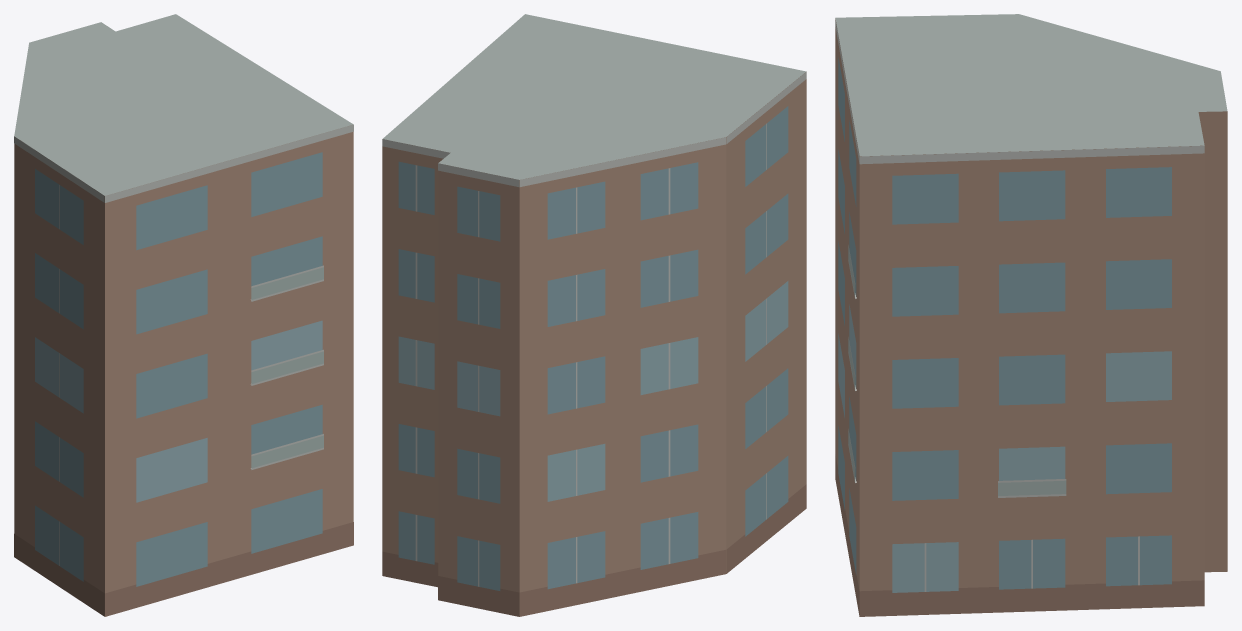
The model's file is survey-upis-33030010.glb.
The picture shows the model from 3 angles, left to right: view 1: azimuth 30°, elevation 25°; view 2: azimuth 150°, elevation 25°; view 3: azimuth 270°, elevation 25°; orthographic projection. The views are drawn at different scales.
Visible parts, largest first — view 1: survey-upis-33030010.tmp; view 2: survey-upis-33030010.tmp; view 3: survey-upis-33030010.tmp.
Boxes of the visible parts, x1,y1,x2,y2 form: survey-upis-33030010.tmp: [14, 14, 353, 616]; survey-upis-33030010.tmp: [382, 14, 806, 616]; survey-upis-33030010.tmp: [835, 14, 1227, 616].
Size of the model in its own units: 9.56 by 14.4 by 11.13.
